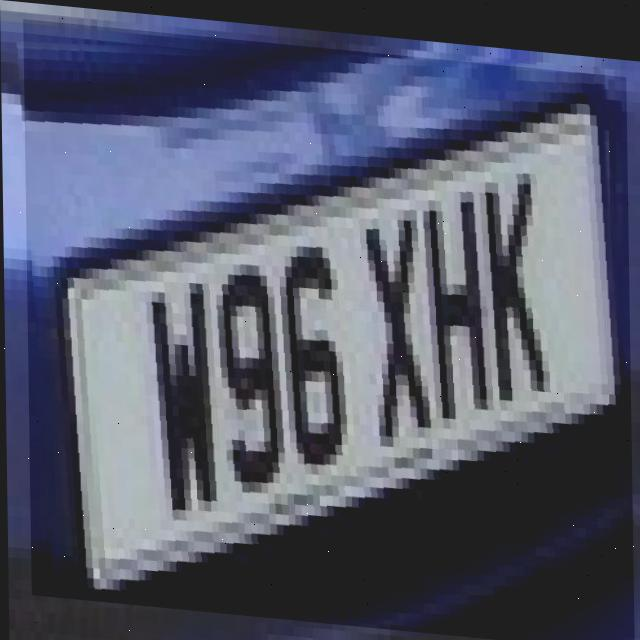LicensePlate: (23, 19, 633, 640)
